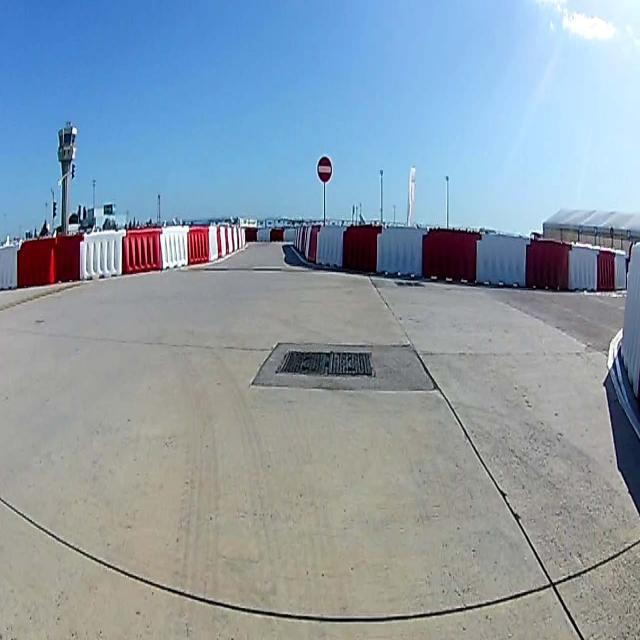girisyok: (316, 156, 332, 184)
